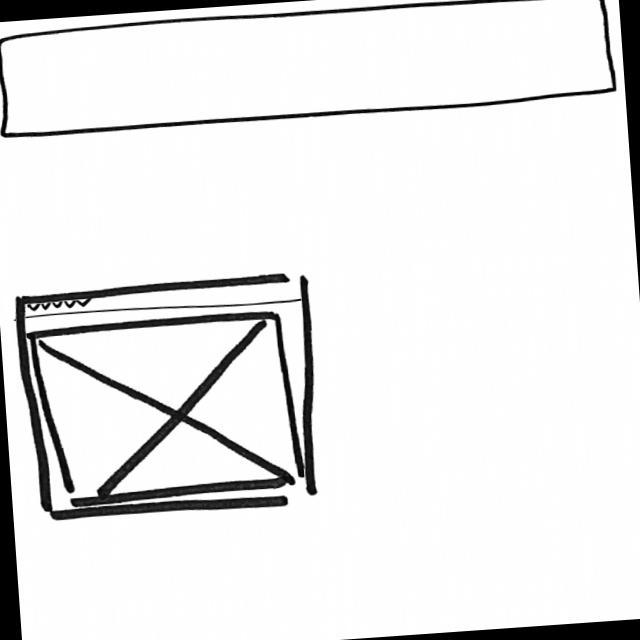container: (1, 1, 623, 141), (13, 275, 326, 523)
image: (32, 310, 303, 507)
text: (30, 299, 95, 312)
